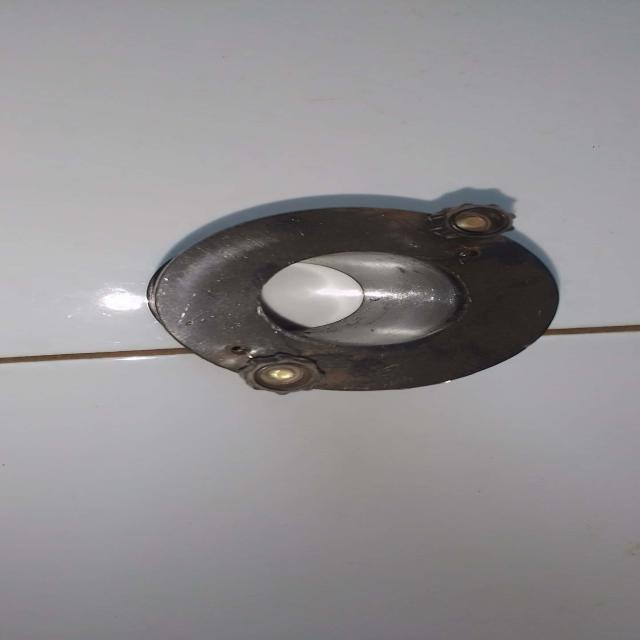Solenoid: (115, 195, 598, 406)
